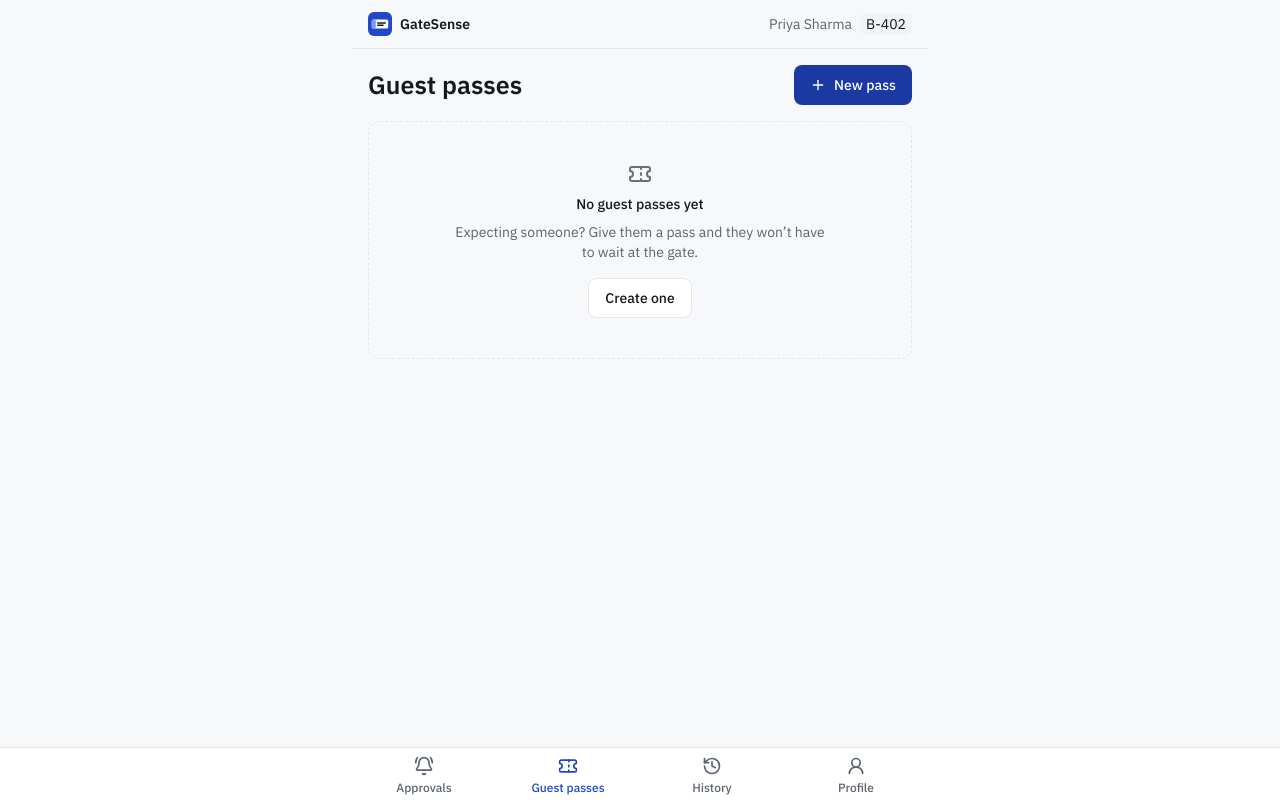
Scenario: Resident app › creates a code guest pass and shows the code once
The width and height of the screenshot is (1280, 800).
Click the button "New pass" at (853, 85), box [794,65,912,105]
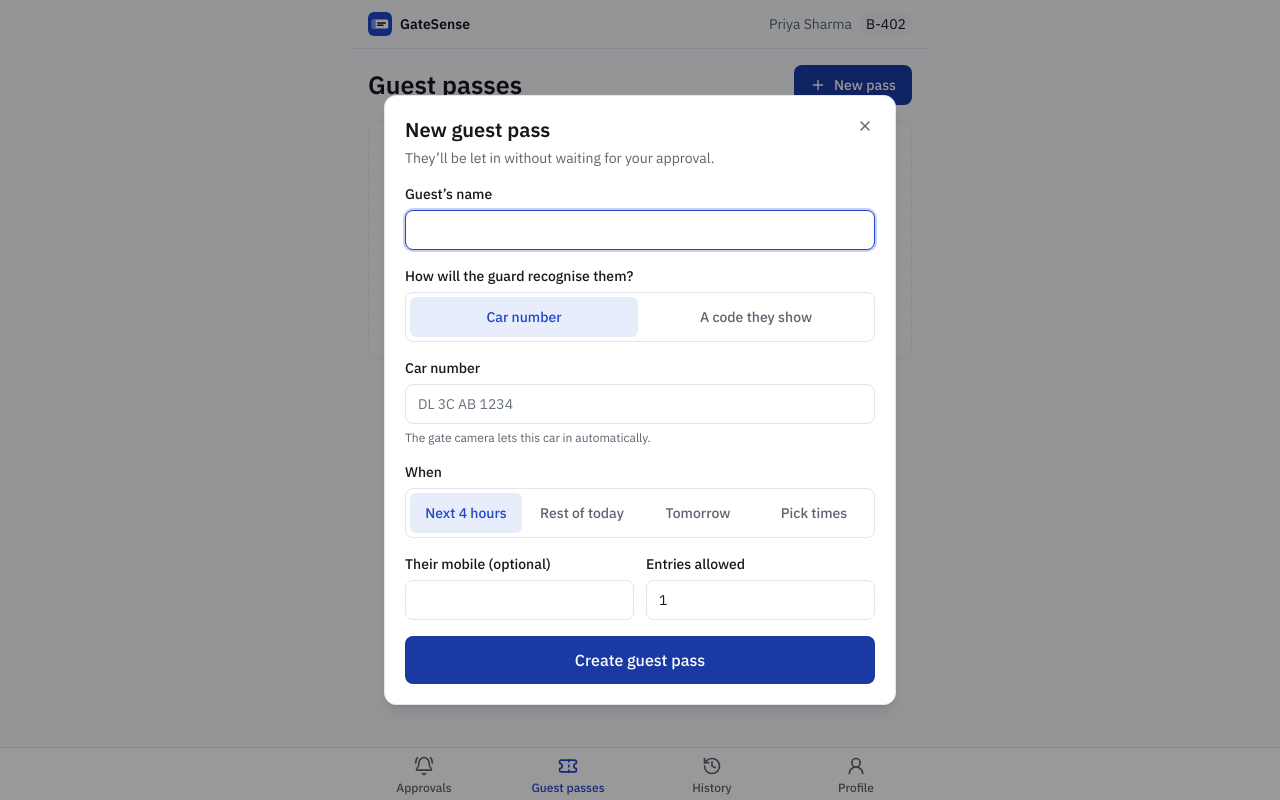
Type "Meera Iyer" into the field labelled "Guest’s name" at (640, 230), box [405,210,875,250]
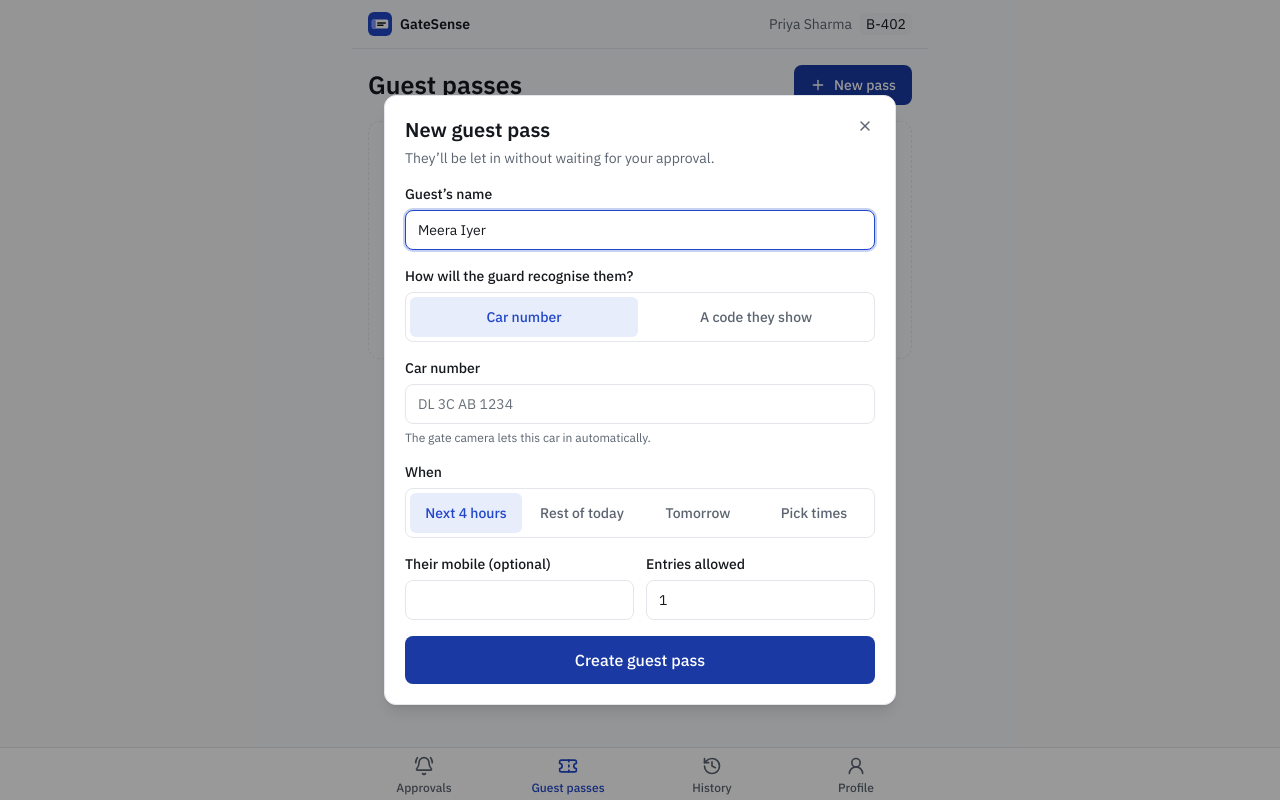
Click the radio button "A code they show" at (756, 317), box [700,308,812,326]
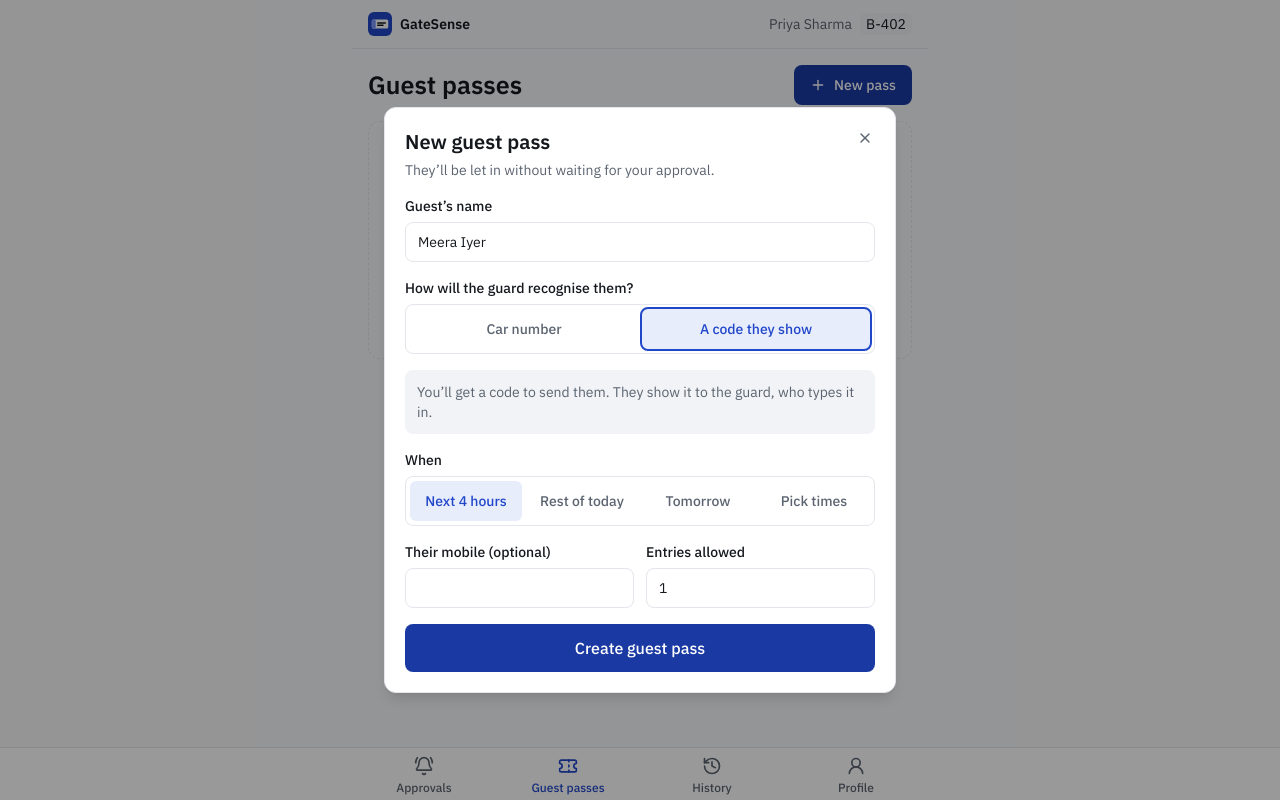
Click the button "Create guest pass" at (640, 648), box [405,624,875,672]
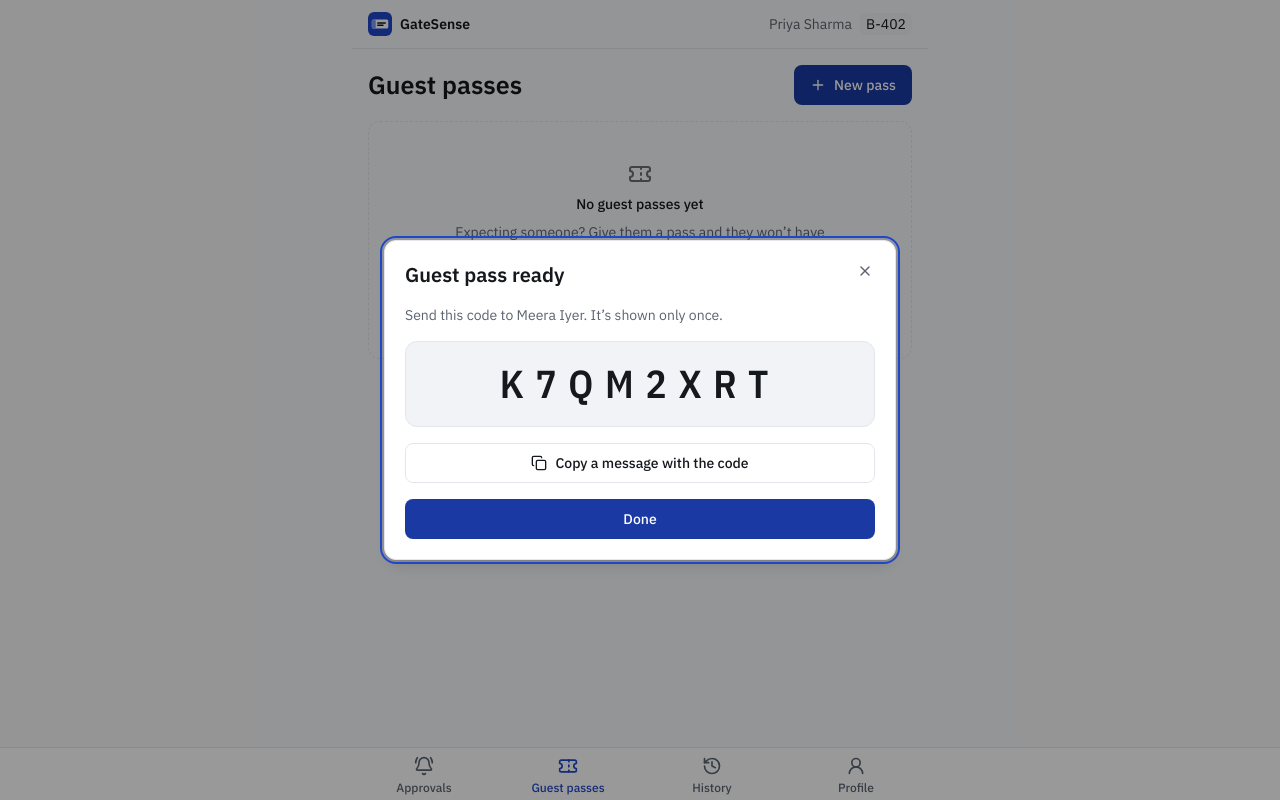
Now the text "K7QM2XRT" is shown, box [405,341,875,427]
